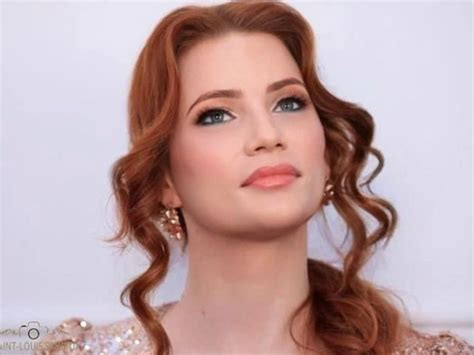femme: (129, 16, 362, 301)
